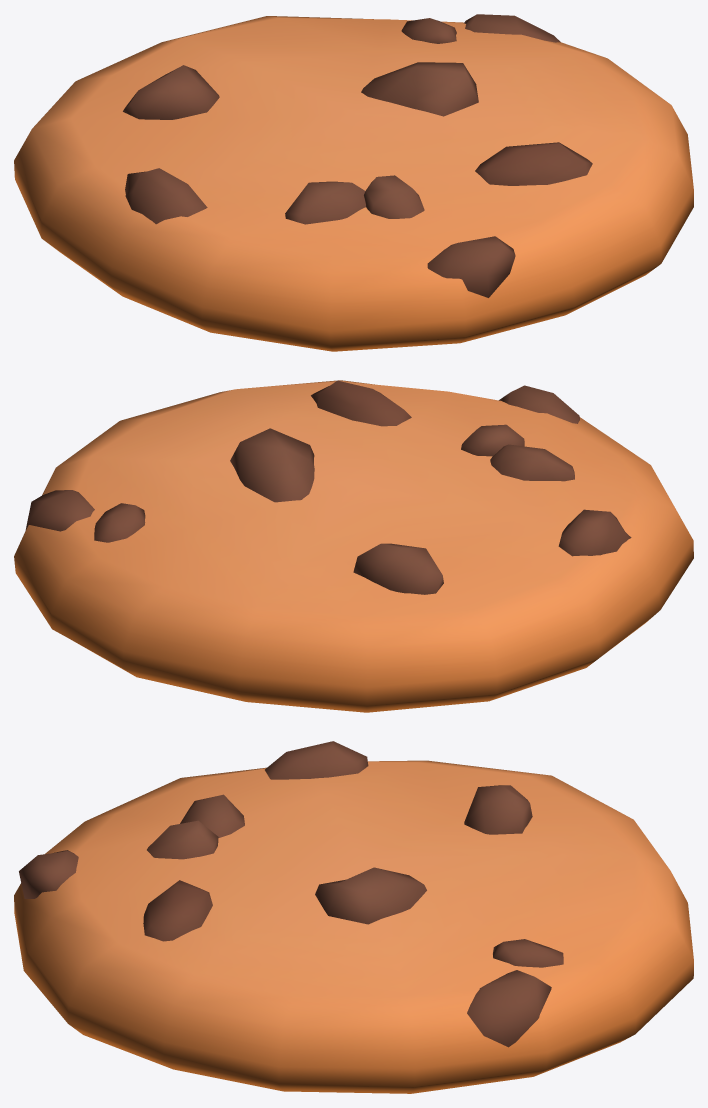
The model's file is Cookie_14.glb.
3 views of the same model, one above another, from view 1: azimuth 30°, elevation 25°; view 2: azimuth 150°, elevation 25°; view 3: azimuth 270°, elevation 25° (orthographic). The views are drawn at different scales.
Parts seen in each view (by area): view 1: Cookie_14; view 2: Cookie_14; view 3: Cookie_14.
Boxes of the visible parts, left/top/right/bottom form: Cookie_14: left=14, top=14, right=693, bottom=351; Cookie_14: left=14, top=380, right=693, bottom=712; Cookie_14: left=14, top=741, right=693, bottom=1093.
Bounding box in the file's own units: 3.52 × 0.7472 × 3.58.
1 material, 1 textured.
